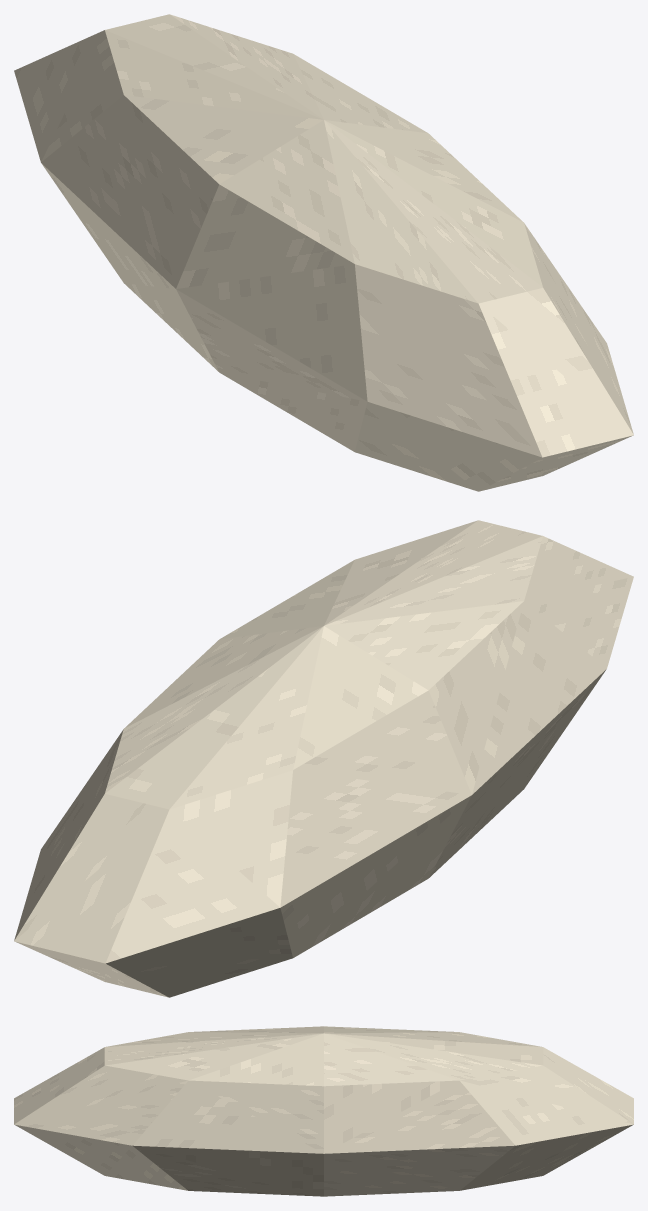
The model's file is egg_wasp.glb.
3 views of the same model, one above another, from view 1: azimuth 30°, elevation 25°; view 2: azimuth 150°, elevation 25°; view 3: azimuth 270°, elevation 25° (orthographic). The views are drawn at different scales.
Parts seen in each view (by area): view 1: block_elongated egg; view 2: block_elongated egg; view 3: block_elongated egg.
Part boxes in pixels (x1=…): block_elongated egg: x1=14, y1=14, x2=633, y2=491; block_elongated egg: x1=14, y1=520, x2=633, y2=997; block_elongated egg: x1=14, y1=1026, x2=633, y2=1196.
Bounding box in the file's own units: 0.0448 × 0.0385 × 0.1386.
1 material, 1 textured.
